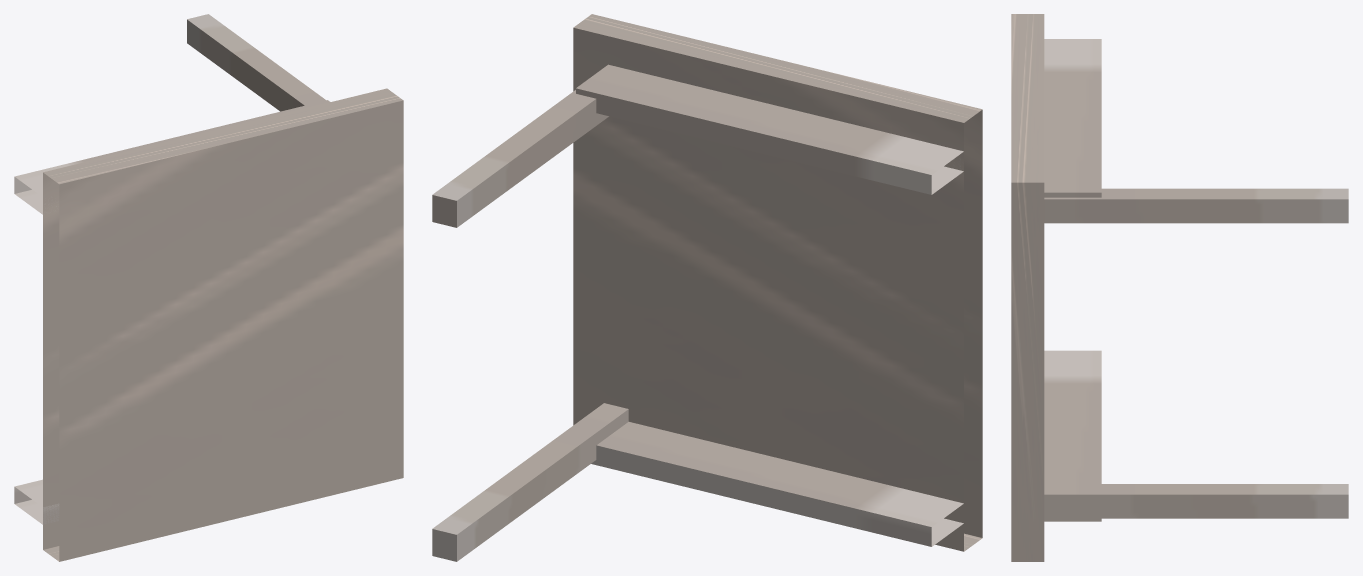
Rendered from pz_table_tables_high_02_long_metal_2_0.obj.
The picture shows the model from 3 angles, left to right: view 1: azimuth 30°, elevation 25°; view 2: azimuth 150°, elevation 25°; view 3: azimuth 270°, elevation 25°; orthographic projection. The views are drawn at different scales.
Bounding box in the file's own units: 0.9062 × 0.95 × 0.7655.
Materials: 1 (1 with a texture image).
